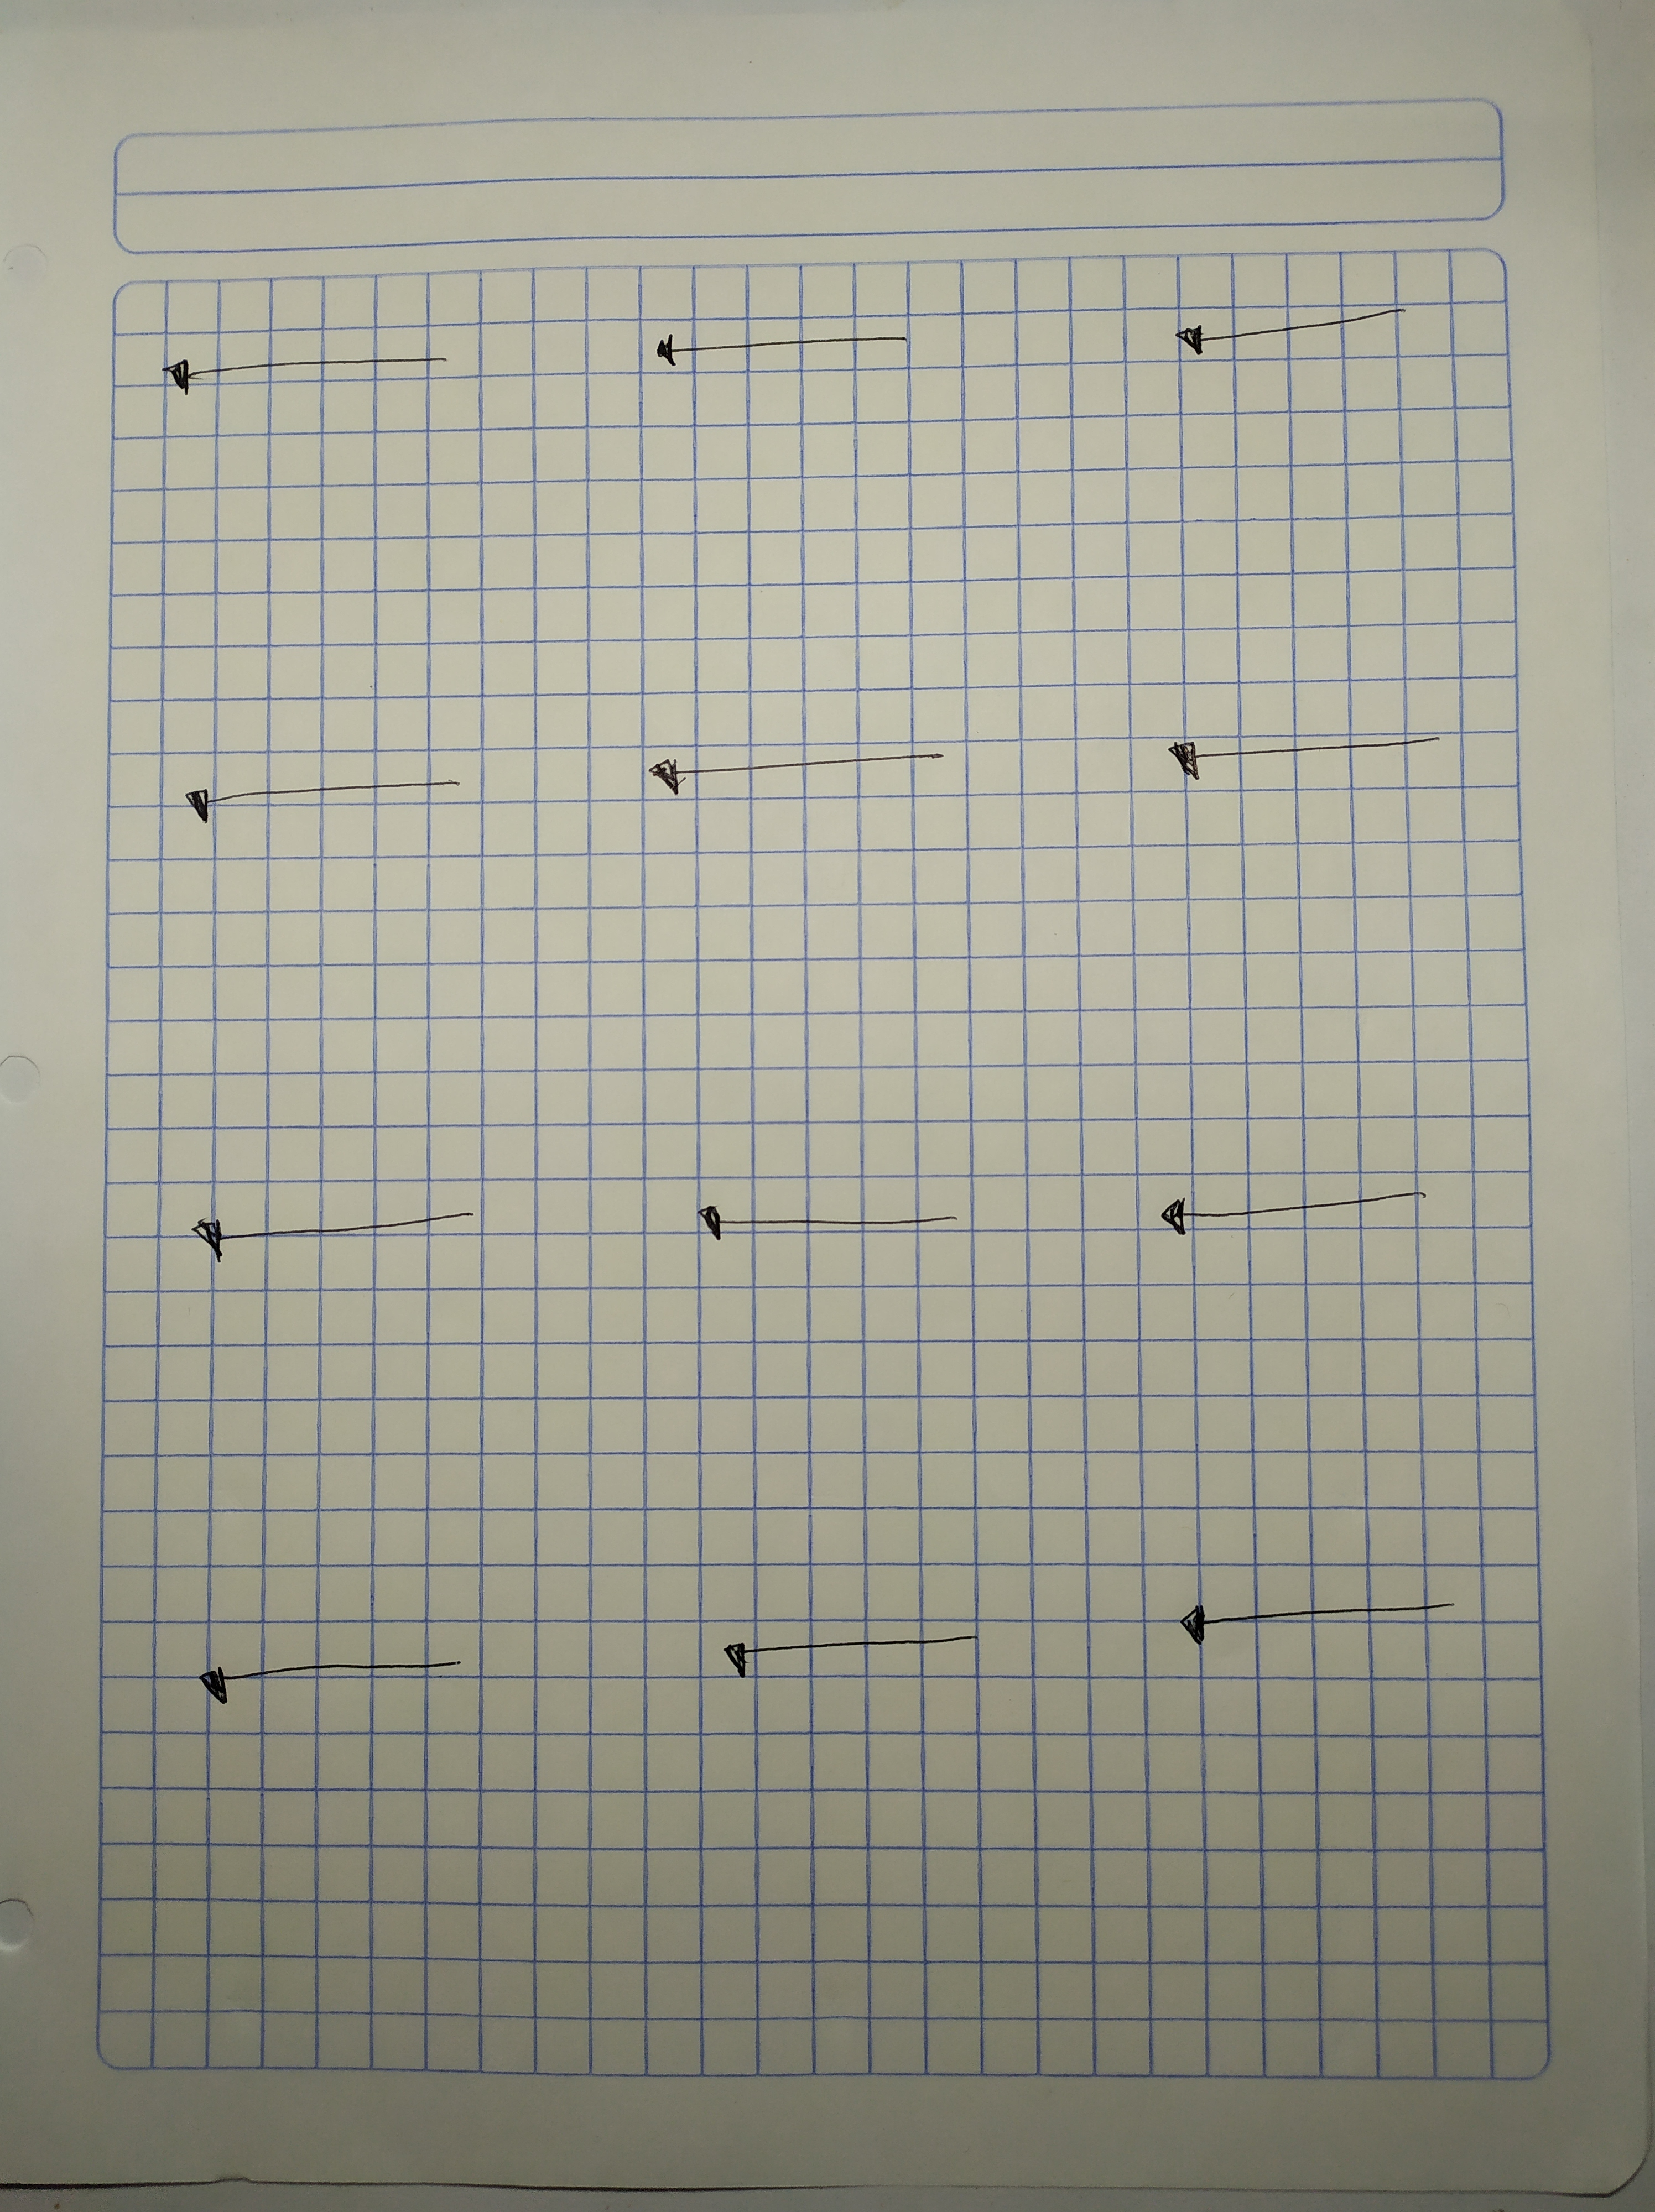arrow_line_left: (153, 1166, 515, 1295), (172, 1625, 489, 1760), (134, 313, 497, 424), (143, 751, 497, 857), (692, 1597, 1024, 1701), (1109, 1164, 1459, 1263), (666, 1180, 993, 1279), (602, 737, 956, 820), (1102, 714, 1457, 798), (1147, 290, 1429, 382), (1153, 1583, 1466, 1663), (635, 315, 949, 389)
